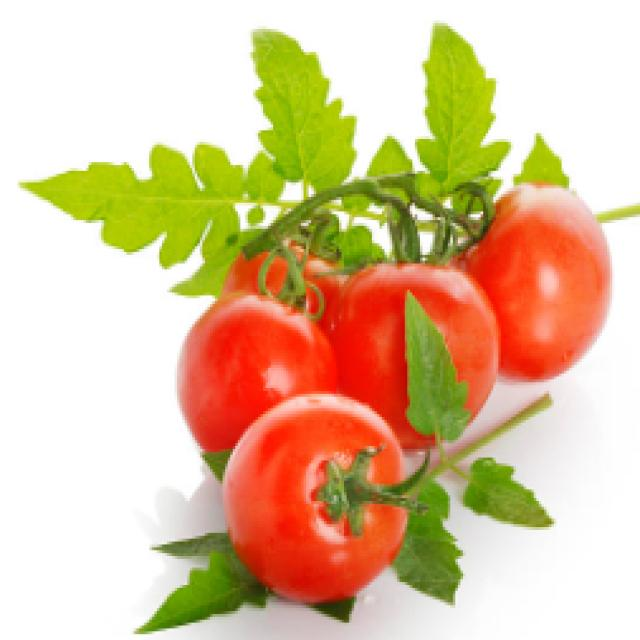Tomato: (225, 383, 426, 589)
